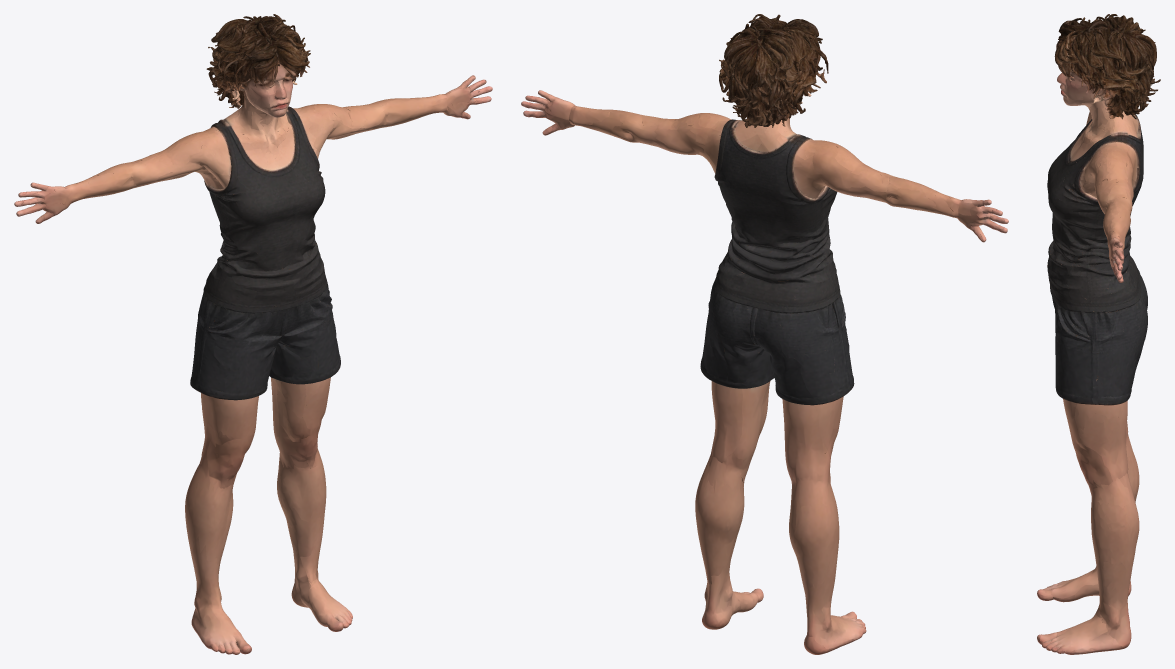
Rendered from me8rr7vih.glb.
3 views of the same model, side by side, from view 1: azimuth 30°, elevation 25°; view 2: azimuth 150°, elevation 25°; view 3: azimuth 270°, elevation 25° (orthographic).
Size of the model in its own units: 1.58 by 1.9 by 0.3546.
Materials: 1 (1 with a texture image).
